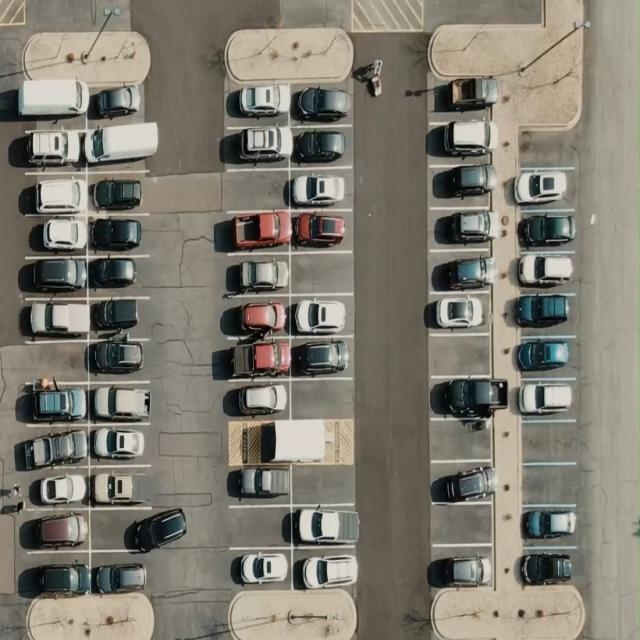space-empty: (90, 507, 181, 550), (22, 339, 89, 382), (222, 170, 290, 212), (429, 332, 492, 377), (289, 252, 353, 296), (227, 504, 291, 548), (290, 377, 353, 420), (517, 421, 580, 464), (290, 462, 353, 505), (518, 126, 580, 169), (431, 502, 492, 545), (520, 462, 580, 505), (428, 426, 495, 460)
space-occupied: (82, 114, 154, 170), (14, 120, 85, 173), (222, 373, 290, 424), (221, 292, 290, 342), (430, 374, 504, 419), (20, 294, 89, 342), (291, 500, 356, 550), (428, 116, 500, 161), (18, 79, 88, 125), (84, 168, 152, 215), (23, 376, 88, 425), (24, 552, 91, 599), (90, 463, 158, 509), (513, 247, 580, 293), (222, 209, 290, 254), (20, 169, 89, 213), (223, 125, 290, 170), (20, 509, 90, 552), (428, 164, 496, 208), (226, 80, 291, 126), (512, 164, 578, 209), (295, 544, 359, 590), (428, 288, 492, 334), (428, 546, 494, 590), (289, 207, 352, 253), (26, 464, 90, 509), (24, 213, 88, 258), (511, 290, 576, 334), (225, 546, 293, 588), (90, 296, 152, 342), (429, 249, 491, 295), (86, 213, 152, 256), (89, 380, 152, 425), (229, 461, 292, 506), (514, 333, 577, 378), (430, 206, 493, 251), (290, 334, 352, 379), (514, 210, 580, 252), (514, 377, 578, 420), (20, 255, 87, 296), (289, 165, 350, 210), (432, 460, 493, 505), (290, 84, 352, 128), (429, 75, 496, 115), (90, 335, 148, 381), (88, 255, 150, 298), (520, 502, 579, 547), (25, 424, 88, 466), (290, 296, 356, 336), (88, 422, 149, 465), (224, 256, 292, 294), (222, 339, 290, 377), (89, 83, 149, 125), (291, 127, 352, 168), (92, 552, 148, 596), (519, 548, 579, 588)
